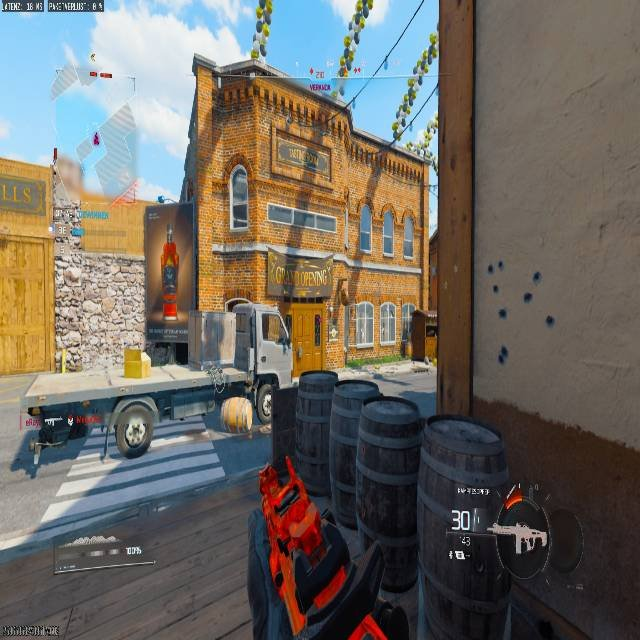player: (6, 403, 96, 481)
